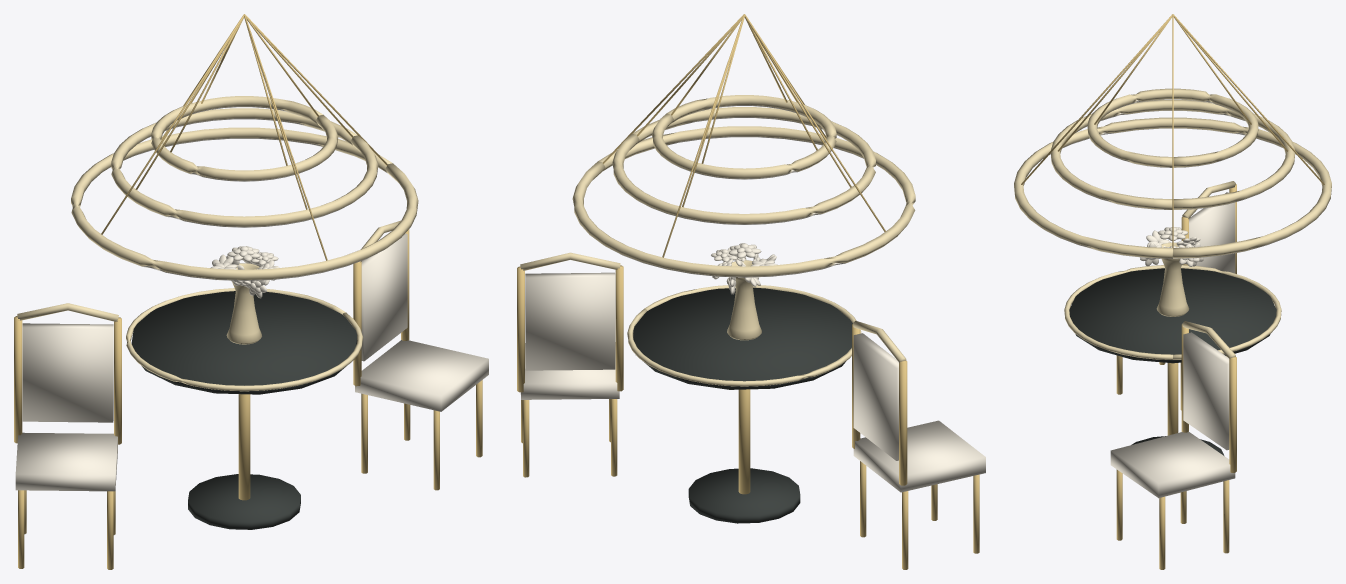
File: scene-hospitality.glb
3 renders of one model, left to right at view 1: azimuth 30°, elevation 25°; view 2: azimuth 150°, elevation 25°; view 3: azimuth 270°, elevation 25°, orthographic. The views are drawn at different scales.
Parts seen in each view (by area): view 1: halo-rings-12, top-0, back-cushion-8, cushion-7, base-3, suspension-14, back-frame-10, legs-9, rim-1, light-diffuser-13, vase-4, stem-2 (+2 smaller); view 2: halo-rings-12, top-0, back-cushion-8, cushion-7, base-3, suspension-14, back-frame-10, legs-9, rim-1, vase-4, light-diffuser-13, stem-2 (+2 smaller); view 3: halo-rings-12, top-0, back-cushion-8, cushion-7, suspension-14, rim-1, legs-9, back-frame-10, vase-4, light-diffuser-13, petals-5, stem-2 (+1 smaller).
Part boxes in pixels (box(x1,y1,x2,y2)): halo-rings-12: box(71, 96, 418, 279); top-0: box(131, 291, 356, 394); back-cushion-8: box(22, 233, 407, 422); cushion-7: box(15, 340, 488, 491); base-3: box(188, 474, 300, 529); suspension-14: box(101, 14, 387, 260); back-frame-10: box(14, 229, 409, 444); legs-9: box(18, 380, 482, 569); rim-1: box(126, 288, 363, 391); light-diffuser-13: box(105, 106, 384, 280); vase-4: box(226, 263, 261, 344); stem-2: box(238, 394, 250, 500); halo-rings-12: box(572, 95, 915, 276); top-0: box(633, 287, 852, 389); back-cushion-8: box(525, 272, 898, 460); cushion-7: box(520, 342, 985, 492); base-3: box(688, 468, 800, 523); suspension-14: box(603, 14, 885, 257); back-frame-10: box(517, 265, 907, 485); legs-9: box(521, 399, 979, 569); rim-1: box(627, 285, 861, 386); vase-4: box(727, 260, 761, 340); light-diffuser-13: box(605, 105, 880, 277); stem-2: box(738, 389, 750, 494); halo-rings-12: box(1014, 88, 1331, 258); top-0: box(1069, 268, 1276, 363); back-cushion-8: box(1183, 192, 1235, 450); cushion-7: box(1110, 431, 1235, 498); suspension-14: box(1021, 14, 1324, 247); rim-1: box(1064, 265, 1281, 359); legs-9: box(1116, 355, 1229, 569); back-frame-10: box(1181, 184, 1236, 472); vase-4: box(1156, 242, 1189, 316); light-diffuser-13: box(1045, 99, 1300, 258); petals-5: box(1140, 227, 1203, 266); stem-2: box(1167, 363, 1178, 435).
Size of the model in its own units: 3.06 by 3.05 by 1.94.
